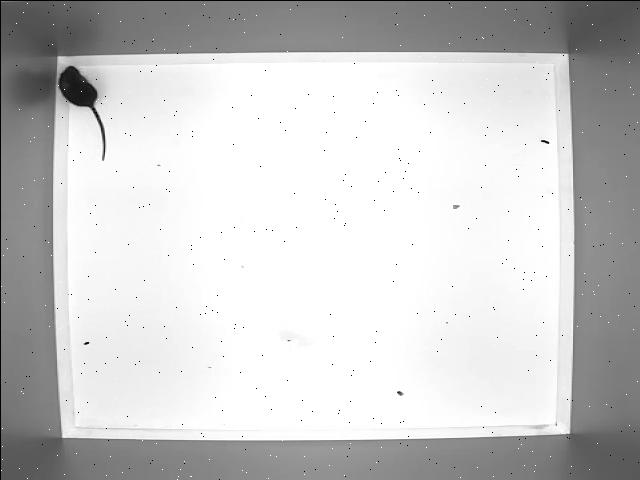Tikus: (53, 61, 108, 164)
